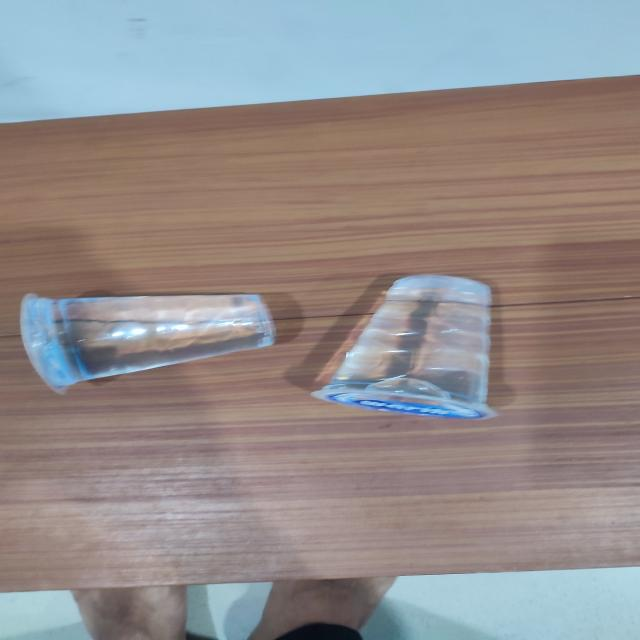air gelas: (302, 272, 516, 424), (12, 281, 285, 396)
